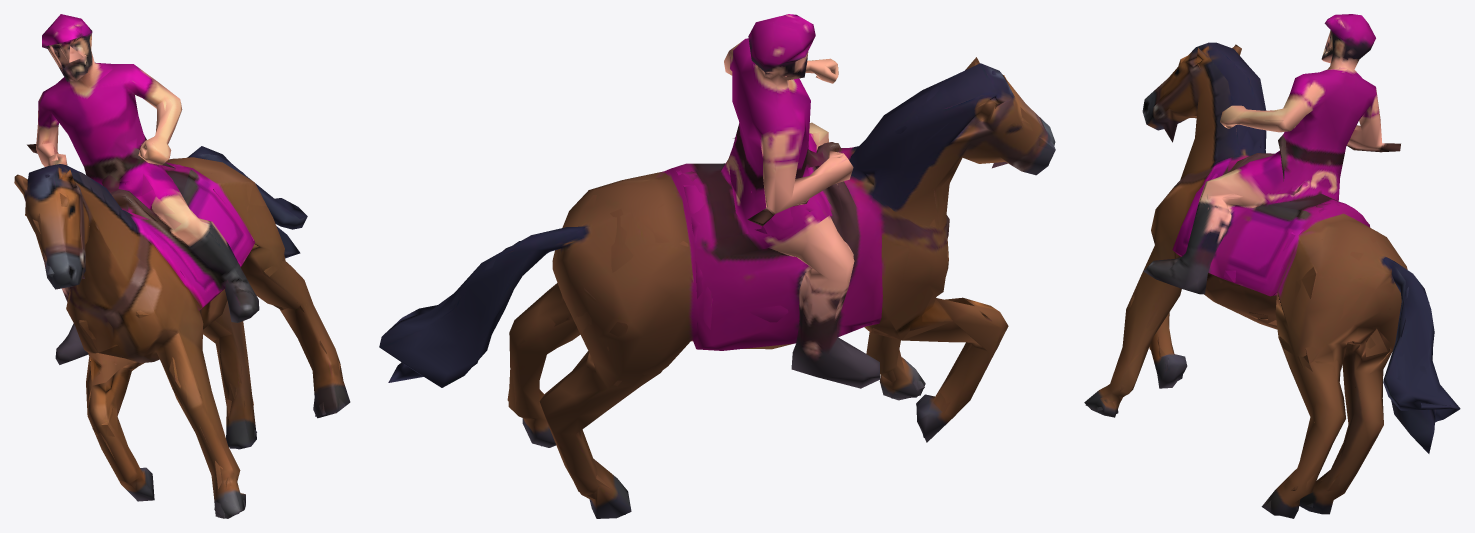
Rendered from rider.glb.
3 views of the same model, side by side, from view 1: azimuth 30°, elevation 25°; view 2: azimuth 150°, elevation 25°; view 3: azimuth 270°, elevation 25° (orthographic). The views are drawn at different scales.
Visible parts, largest first — view 1: level; view 2: level; view 3: level.
Part boxes in pixels (x1,y1,x2,y2): level: (14, 14, 350, 518); level: (379, 14, 1055, 518); level: (1084, 14, 1460, 518).
Bounding box in the file's own units: 0.6654 × 0.7268 × 0.582.
Materials: 1 (1 with a texture image).
